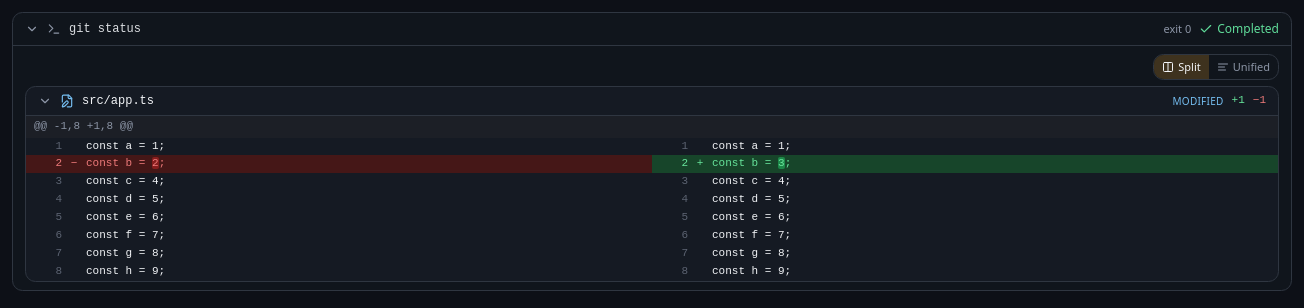
Scenario: ToolBlock diff detection › a diff arrives open rather than folded away like other successful output
expect the text "@@ -1,8 +1,8 @@" is shown: met, box 26,116 -> 1278,138
What coordinates should you click on to do the following:
click the button "src/app.ts modified +1 −1"
I would click on:
 (118, 101)
Its box is 26,87 -> 1278,115.
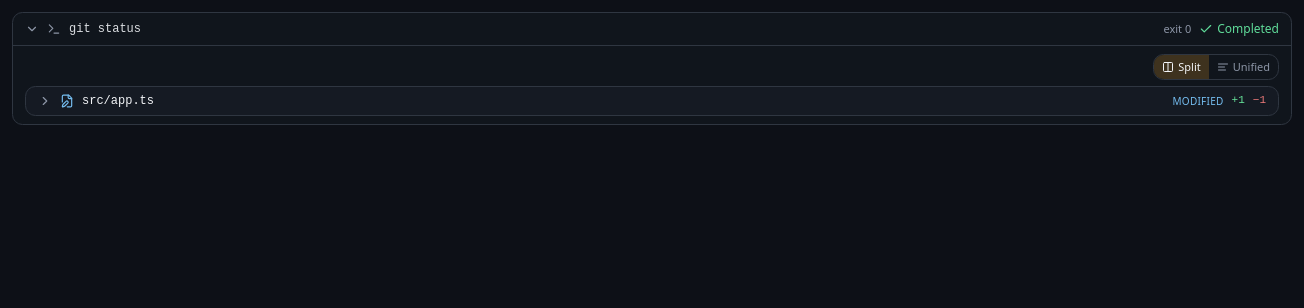
expect the text "@@ -1,8 +1,8 @@" is gone: met
